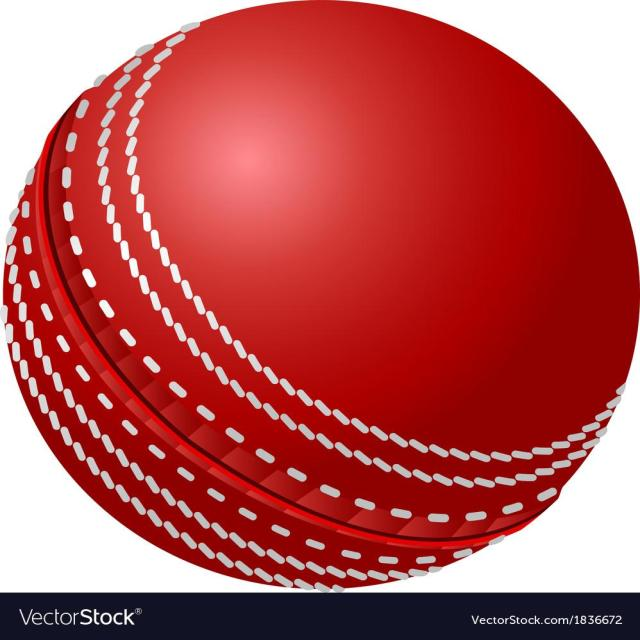ball: (0, 1, 640, 592)
